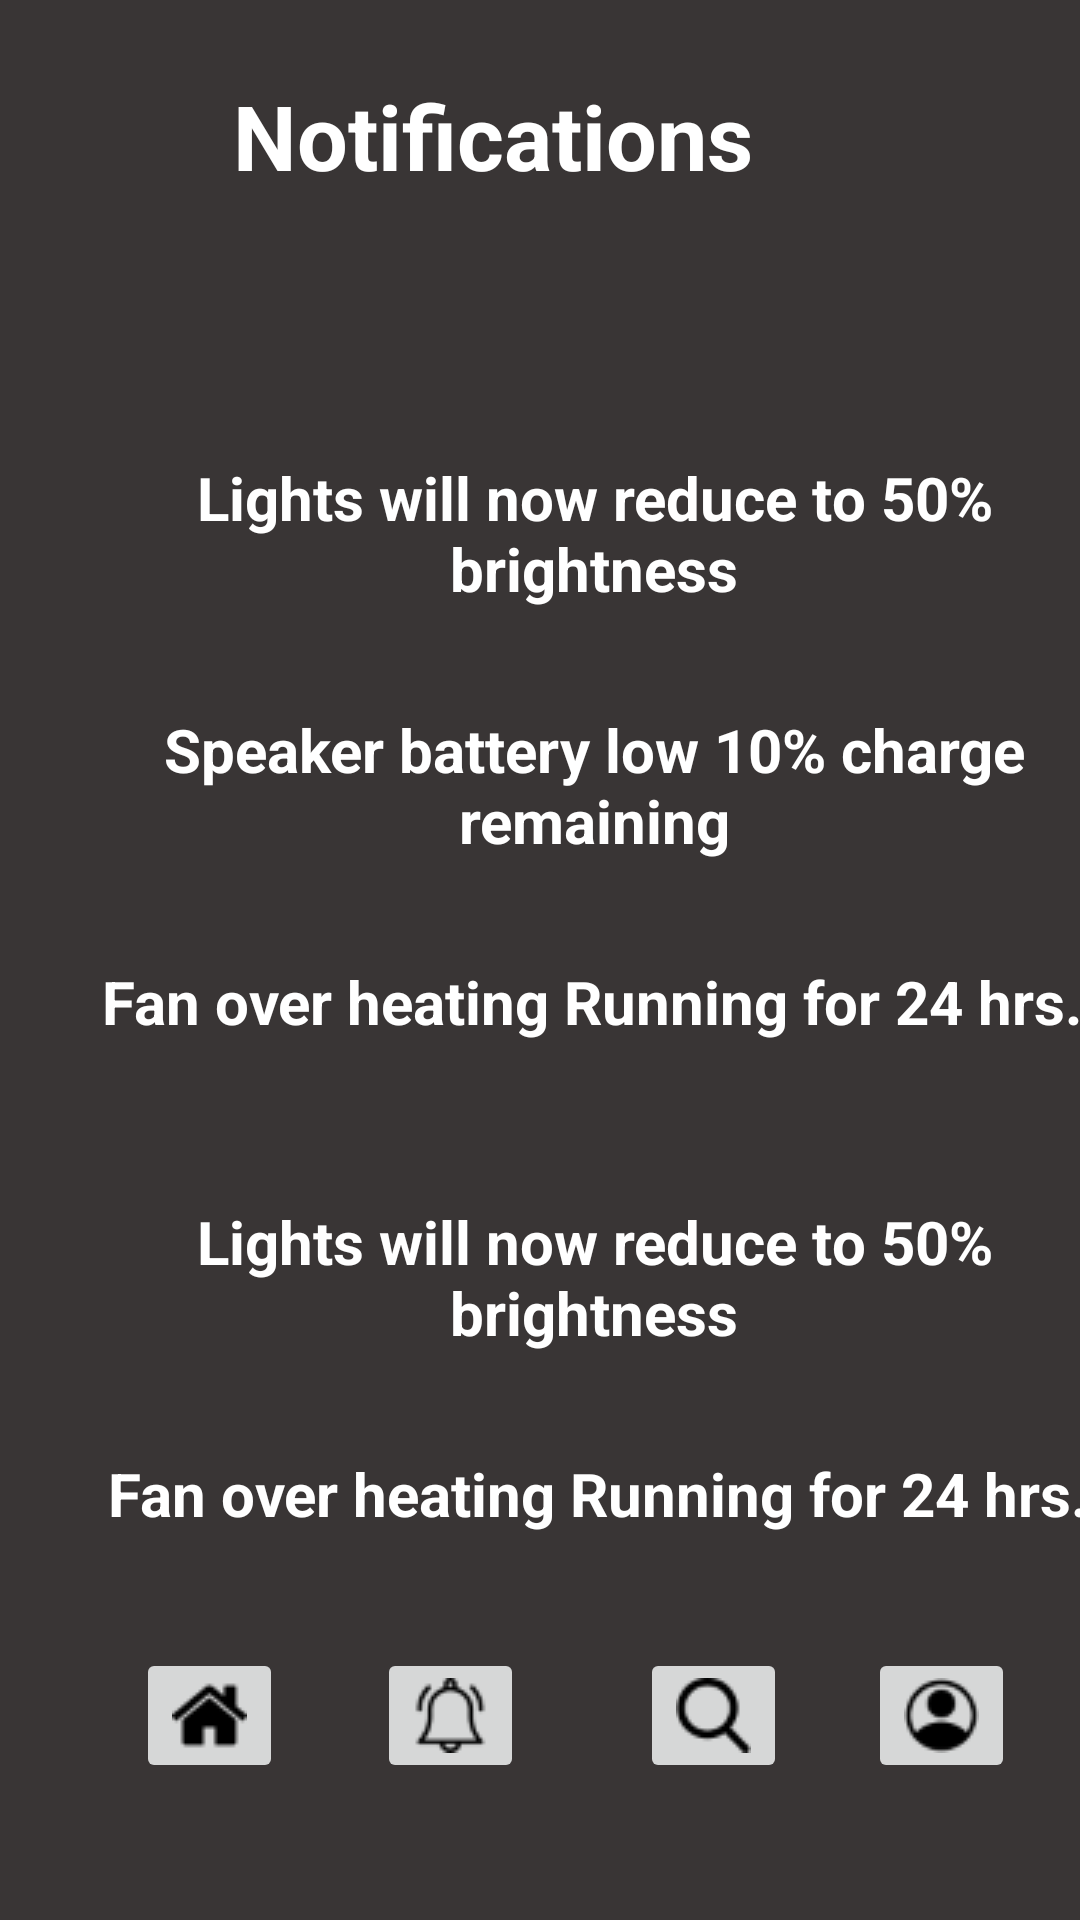

Screen size 1080w x 1920h. Icon name, then its box in pixels as rect(x1, y1, x2, y2):
account: rect(880, 1666, 1003, 1765)
homenew: rect(148, 1666, 271, 1765)
notification: rect(389, 1666, 512, 1765)
search: rect(652, 1666, 775, 1765)
